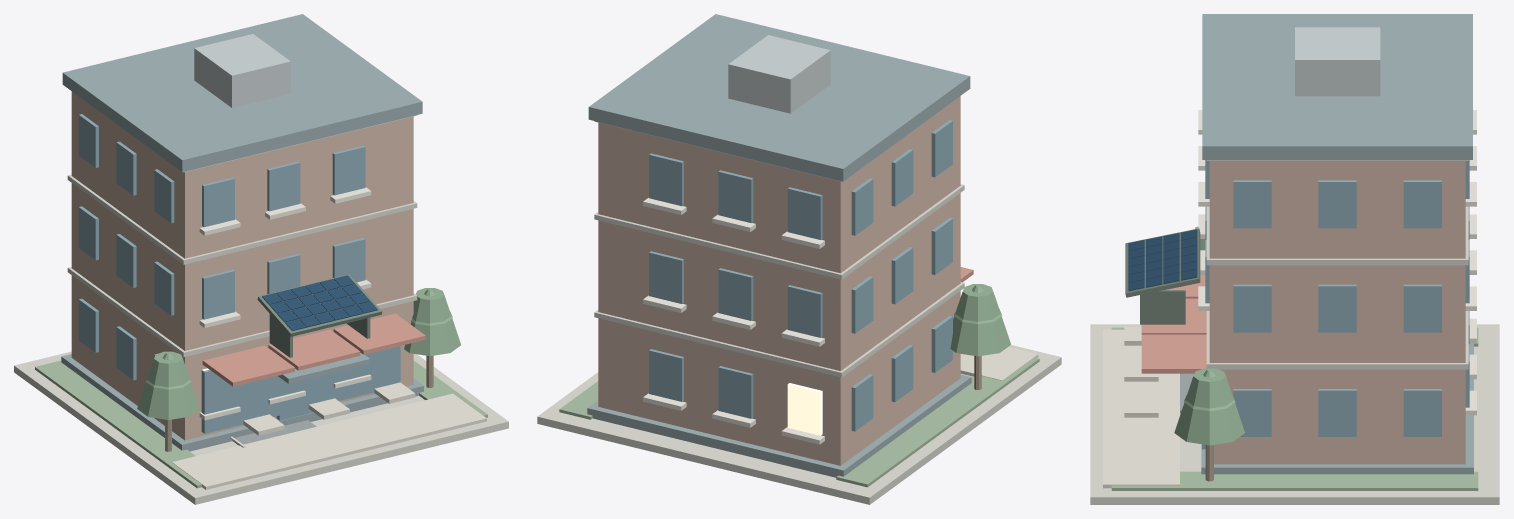
The model's file is remaster_shop_11.glb.
3 renders of one model, left to right at view 1: azimuth 30°, elevation 25°; view 2: azimuth 150°, elevation 25°; view 3: azimuth 270°, elevation 25°, orthographic. The views are drawn at different scales.
Parts seen in each view (by area): view 1: remaster_shop_11 brick, remaster_shop_11 roof, remaster_shop_11 glass, remaster_shop_11 stone, remaster_shop_11 cream, remaster_shop_11 red, remaster_shop_11 leaf, remaster_shop_11 metal, remaster_shop_11 green, remaster_shop_11 white, Solar frame.005, remaster_shop_11 asphalt (+1 smaller); view 2: remaster_shop_11 brick, remaster_shop_11 roof, remaster_shop_11 glass, remaster_shop_11 stone, remaster_shop_11 metal, remaster_shop_11 green, remaster_shop_11 white, remaster_shop_11 leaf, remaster_shop_11 warm, remaster_shop_11 cream; view 3: remaster_shop_11 brick, remaster_shop_11 roof, remaster_shop_11 glass, remaster_shop_11 stone, remaster_shop_11 cream, remaster_shop_11 metal, remaster_shop_11 green, remaster_shop_11 red, remaster_shop_11 leaf, remaster_shop_11 white, Panel leg.011, Solar frame.005.
Boxes of the visible parts, x1,y1,x2,y2 form: remaster_shop_11 brick: [71, 91, 413, 440]; remaster_shop_11 roof: [61, 14, 423, 451]; remaster_shop_11 glass: [78, 114, 400, 433]; remaster_shop_11 stone: [14, 115, 508, 504]; remaster_shop_11 cream: [172, 382, 486, 489]; remaster_shop_11 red: [202, 313, 425, 386]; remaster_shop_11 leaf: [137, 288, 460, 419]; remaster_shop_11 metal: [194, 34, 290, 107]; remaster_shop_11 green: [35, 360, 487, 488]; remaster_shop_11 white: [199, 187, 371, 447]; Solar frame.005: [257, 274, 382, 336]; remaster_shop_11 asphalt: [232, 420, 316, 445]; remaster_shop_11 brick: [598, 96, 960, 465]; remaster_shop_11 roof: [587, 14, 971, 477]; remaster_shop_11 glass: [649, 120, 952, 431]; remaster_shop_11 stone: [537, 121, 1061, 504]; remaster_shop_11 metal: [728, 35, 830, 113]; remaster_shop_11 green: [559, 357, 1039, 487]; remaster_shop_11 white: [643, 197, 824, 444]; remaster_shop_11 leaf: [950, 284, 1010, 356]; remaster_shop_11 warm: [787, 383, 822, 435]; remaster_shop_11 cream: [960, 347, 1038, 380]; remaster_shop_11 brick: [1209, 161, 1465, 464]; remaster_shop_11 roof: [1201, 14, 1473, 474]; remaster_shop_11 glass: [1202, 160, 1469, 449]; remaster_shop_11 stone: [1090, 160, 1499, 504]; remaster_shop_11 cream: [1103, 326, 1179, 488]; remaster_shop_11 metal: [1295, 27, 1380, 96]; remaster_shop_11 green: [1111, 327, 1478, 490]; remaster_shop_11 red: [1141, 275, 1206, 373]; remaster_shop_11 leaf: [1174, 226, 1244, 445]; remaster_shop_11 white: [1198, 110, 1476, 415]; Panel leg.011: [1140, 290, 1185, 324]; Solar frame.005: [1125, 228, 1200, 297].
Bounding box in the file's own units: 9.64 × 9.7 × 9.6.
